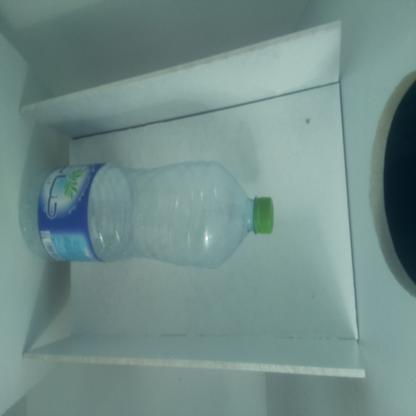bottle: (17, 160, 277, 275)
